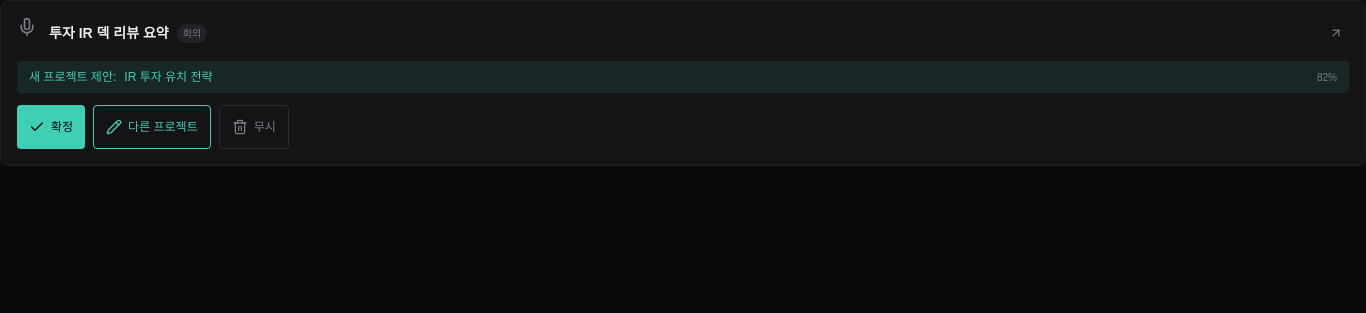
it: SmartInboxItemCard AI 추천 라벨 › 추천 id 가 없는 항목은 맵 로딩 중에도 확정(=picker 열기)이 가능하다
This screenshot has width=1366, height=313.
Click the button "확정" at (51, 127), box [17,105,85,149]
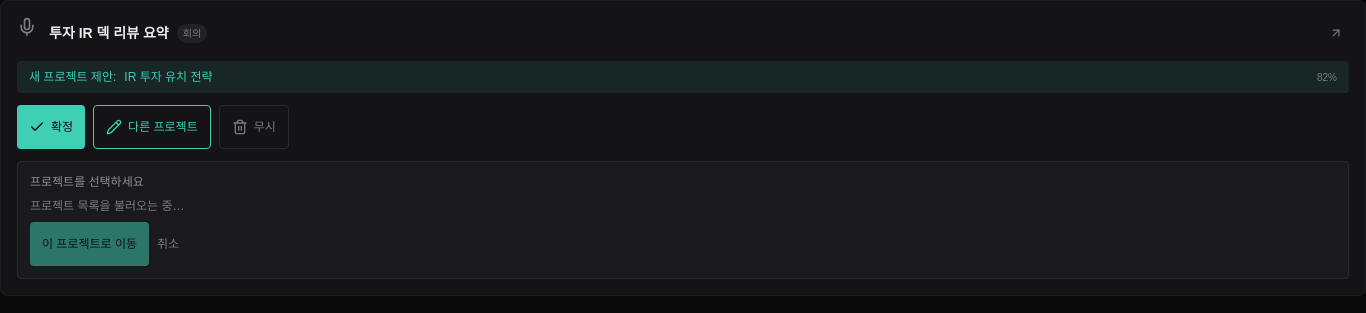
Check: the text "프로젝트를 선택하세요" is shown, box [30,175,144,189]
